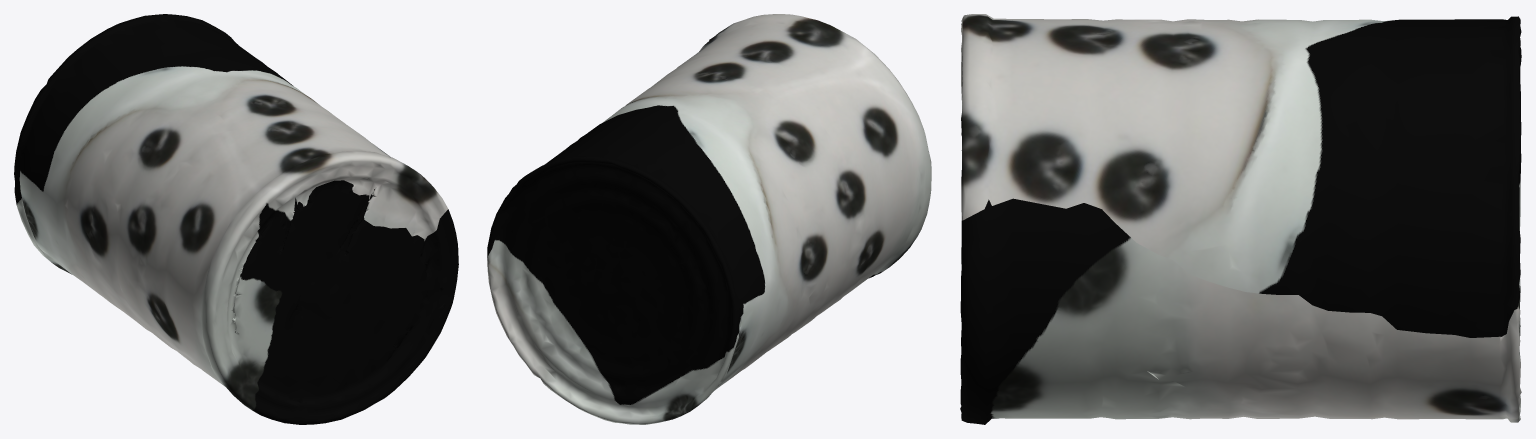
3 renders of one model, left to right at view 1: azimuth 30°, elevation 25°; view 2: azimuth 150°, elevation 25°; view 3: azimuth 270°, elevation 25°, orthographic. The views are drawn at different scales.
Parts seen in each view (by area): view 1: textured.001; view 2: textured.001; view 3: textured.001.
Boxes of the visible parts, box(x1,y1,x2,y2) form: textured.001: box(14, 14, 458, 424); textured.001: box(487, 14, 931, 424); textured.001: box(960, 14, 1521, 424).
Bounding box in the file's own units: 0.1024 × 0.1025 × 0.1402.
